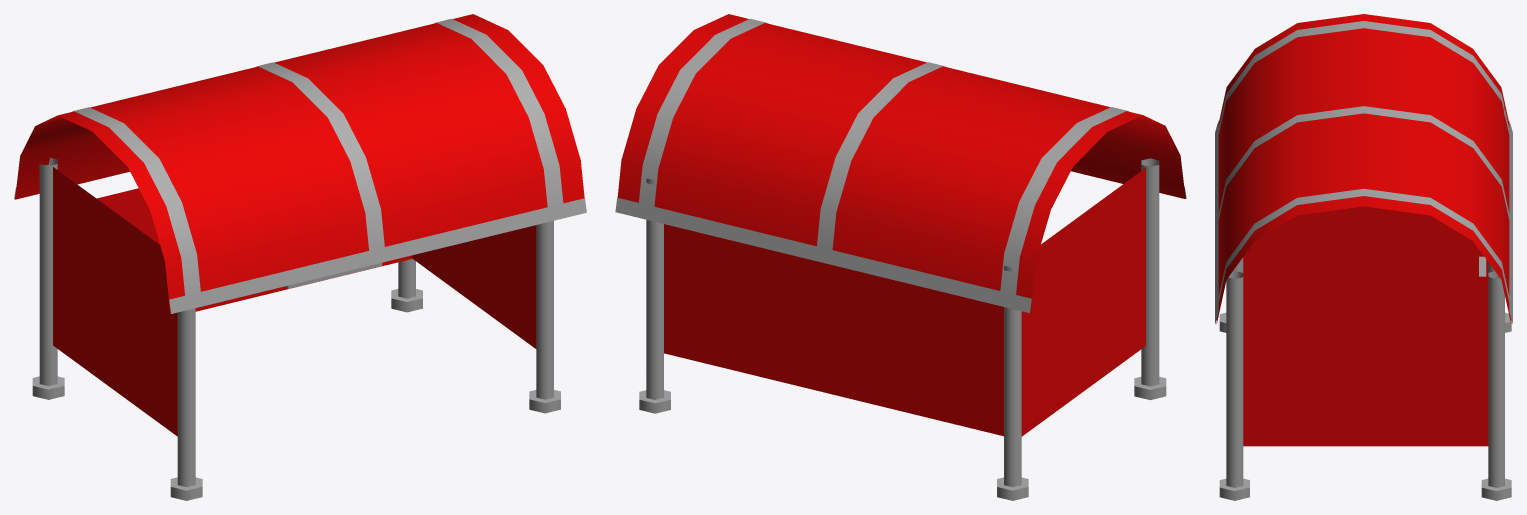
File: parada.fbx
The picture shows the model from 3 angles, left to right: view 1: azimuth 30°, elevation 25°; view 2: azimuth 150°, elevation 25°; view 3: azimuth 270°, elevation 25°; orthographic projection. The views are drawn at different scales.
Parts seen in each view (by area): view 1: polySurface13; view 2: polySurface13; view 3: polySurface13.
Boxes of the visible parts, x1,y1,x2,y2 form: polySurface13: [14, 14, 586, 500]; polySurface13: [615, 14, 1186, 500]; polySurface13: [1215, 14, 1512, 500].
Size of the model in its own units: 783 by 573 by 512.
